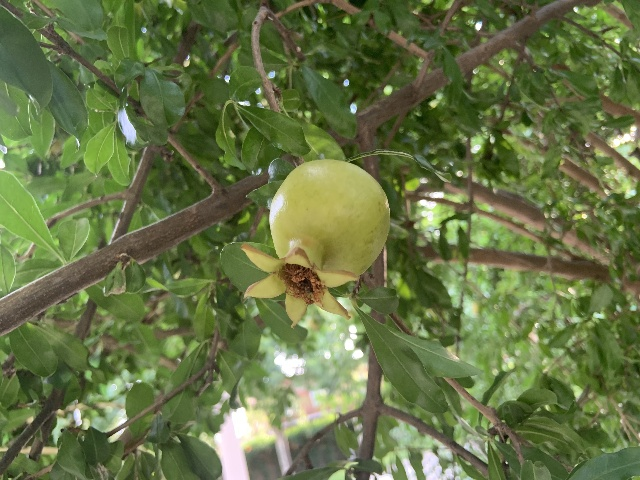mid-growth: (239, 158, 390, 329)
